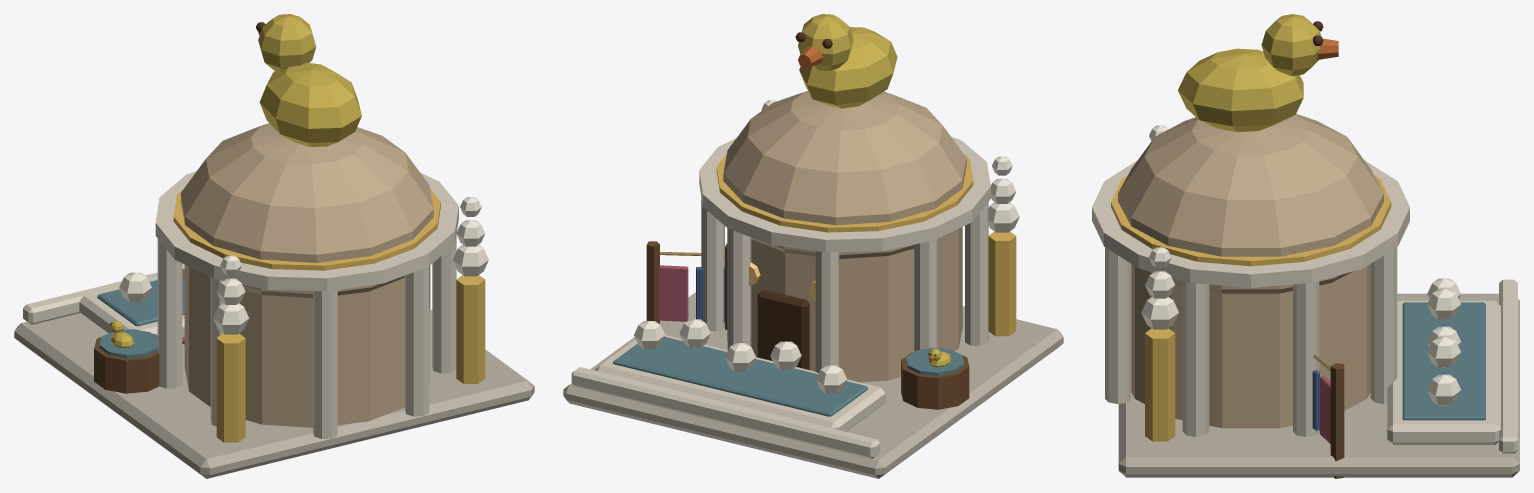
The model's file is bathhouse_l2.fbx.
3 views of the same model, side by side, from view 1: azimuth 30°, elevation 25°; view 2: azimuth 150°, elevation 25°; view 3: azimuth 270°, elevation 25° (orthographic). The views are drawn at different scales.
Parts seen in each view (by area): view 1: Building; view 2: Building; view 3: Building.
Boxes of the visible parts, <box> form: Building: <box>14,14,534,478</box>; Building: <box>563,14,1063,478</box>; Building: <box>1092,14,1519,478</box>.
Bounding box in the file's own units: 1.06 × 1.13 × 1.1.
